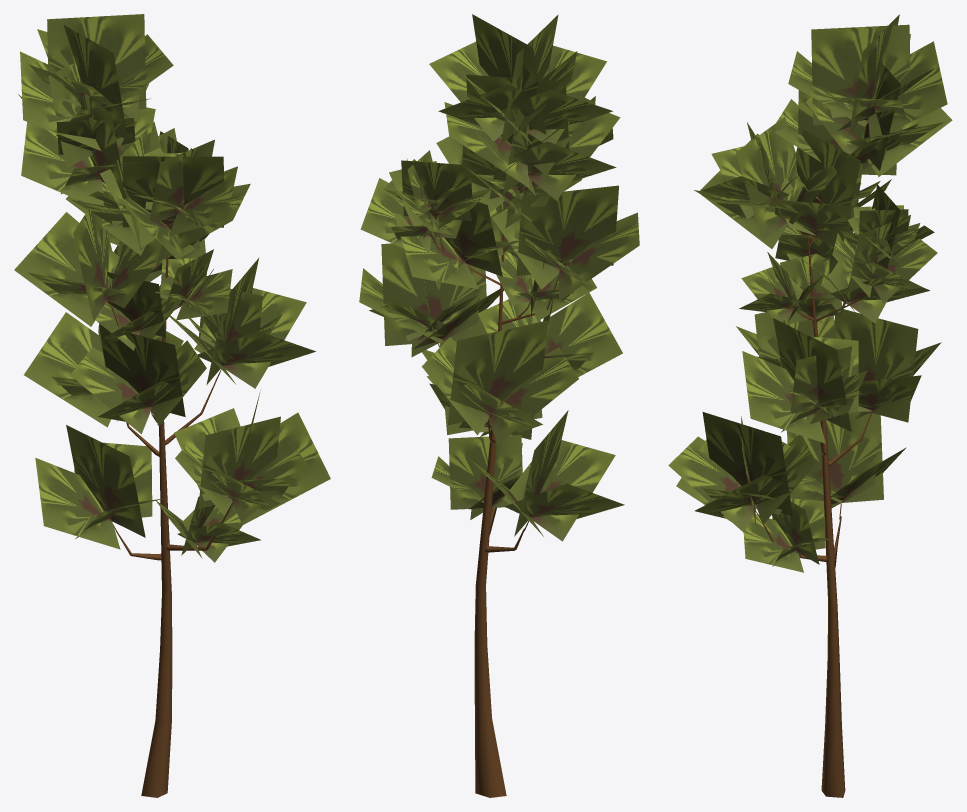
Rendered from Young_Pine_Tree_3.fbx.
3 views of the same model, side by side, from view 1: azimuth 30°, elevation 25°; view 2: azimuth 150°, elevation 25°; view 3: azimuth 270°, elevation 25° (orthographic). The views are drawn at different scales.
Parts seen in each view (by area): view 1: Young_Pine_Tree_3; view 2: Young_Pine_Tree_3; view 3: Young_Pine_Tree_3.
Part boxes in pixels (x1,y1,x2,y2): Young_Pine_Tree_3: (14, 14, 330, 797); Young_Pine_Tree_3: (359, 14, 639, 797); Young_Pine_Tree_3: (668, 14, 952, 797).
Size of the model in its own units: 82.94 by 222 by 76.81.
Materials: 2 (2 with a texture image).
